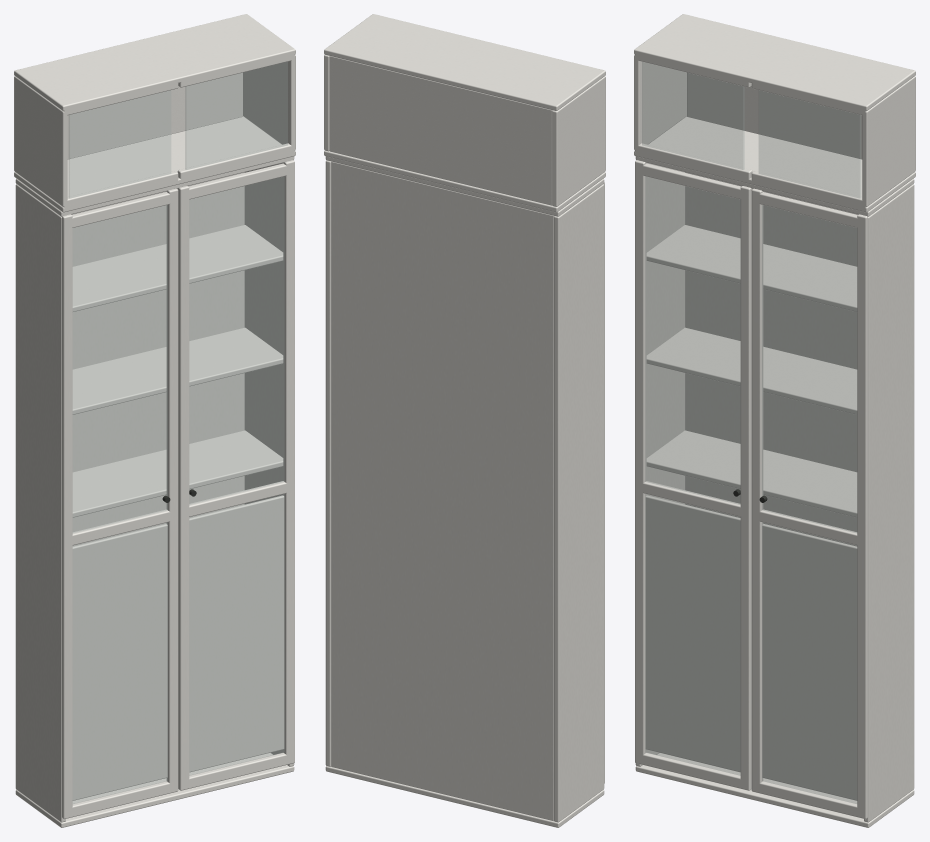
Rendered from billy-oxberg-tall.glb.
3 renders of one model, left to right at view 1: azimuth 30°, elevation 25°; view 2: azimuth 150°, elevation 25°; view 3: azimuth 330°, elevation 25°, orthographic.
Visible parts, largest first — view 1: BILLY / OXBERG Bookcase with doors and top unit; view 2: BILLY / OXBERG Bookcase with doors and top unit; view 3: BILLY / OXBERG Bookcase with doors and top unit.
Boxes of the visible parts, x1=… form: BILLY / OXBERG Bookcase with doors and top unit: x1=14, y1=14, x2=295, y2=827; BILLY / OXBERG Bookcase with doors and top unit: x1=324, y1=14, x2=605, y2=827; BILLY / OXBERG Bookcase with doors and top unit: x1=634, y1=14, x2=915, y2=827.
Size of the model in its own units: 0.8 by 2.37 by 0.3.
3 materials, 2 textured.
